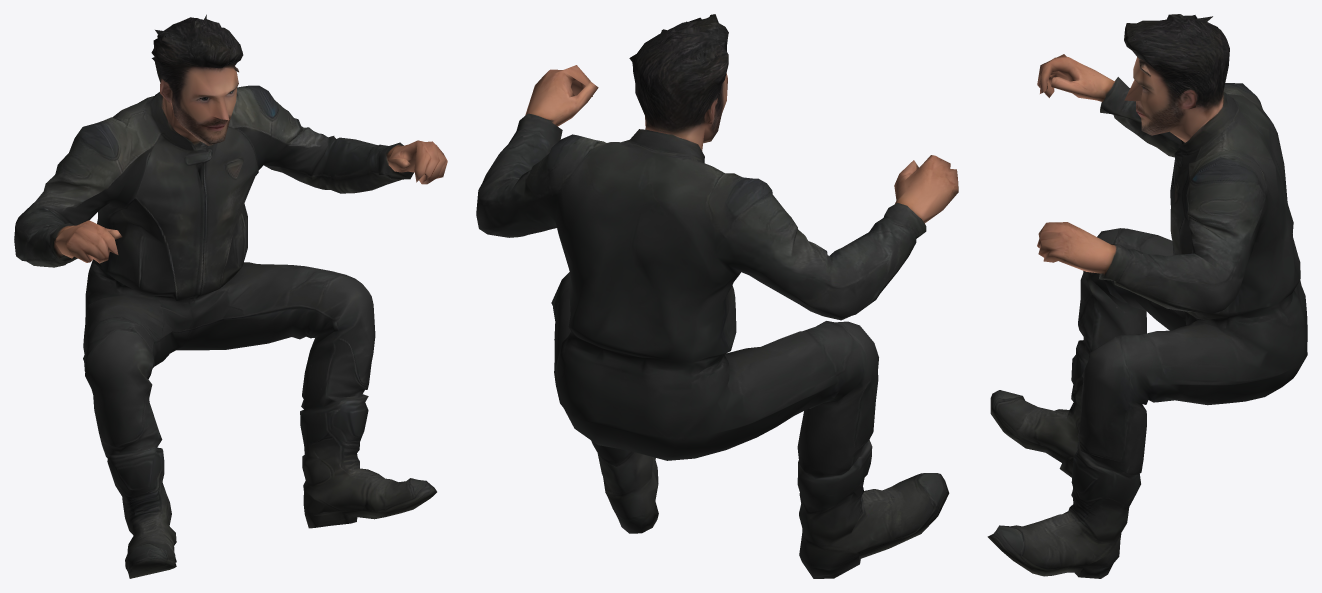
File: bikerm1.glb
The picture shows the model from 3 angles, left to right: view 1: azimuth 30°, elevation 25°; view 2: azimuth 150°, elevation 25°; view 3: azimuth 270°, elevation 25°; orthographic projection. The views are drawn at different scales.
Visible parts, largest first — view 1: tripo_node_b8b16cd7-eb71-4815-aaa6-e6bf27e90972; view 2: tripo_node_b8b16cd7-eb71-4815-aaa6-e6bf27e90972; view 3: tripo_node_b8b16cd7-eb71-4815-aaa6-e6bf27e90972.
Boxes of the visible parts, x1=… form: tripo_node_b8b16cd7-eb71-4815-aaa6-e6bf27e90972: x1=14, y1=14, x2=447, y2=578; tripo_node_b8b16cd7-eb71-4815-aaa6-e6bf27e90972: x1=476, y1=14, x2=958, y2=578; tripo_node_b8b16cd7-eb71-4815-aaa6-e6bf27e90972: x1=987, y1=14, x2=1307, y2=578.
Size of the model in its own units: 0.7904 by 1 by 0.5633.
Materials: 1 (1 with a texture image).
